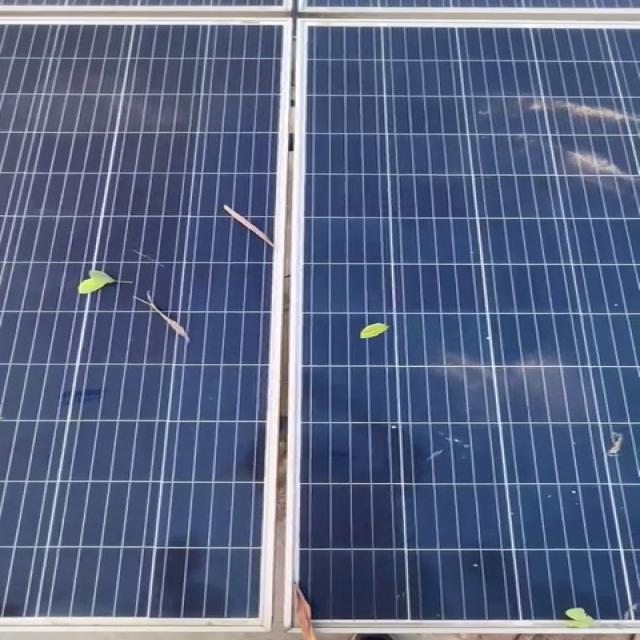bird_dropping: (407, 433, 481, 470), (603, 423, 632, 473)
dust_partical: (518, 90, 640, 194), (416, 349, 602, 417), (0, 72, 187, 138)
old_leaf: (137, 286, 200, 347), (218, 201, 278, 253), (67, 262, 124, 299), (287, 581, 320, 640), (345, 315, 406, 346), (563, 606, 600, 628)
